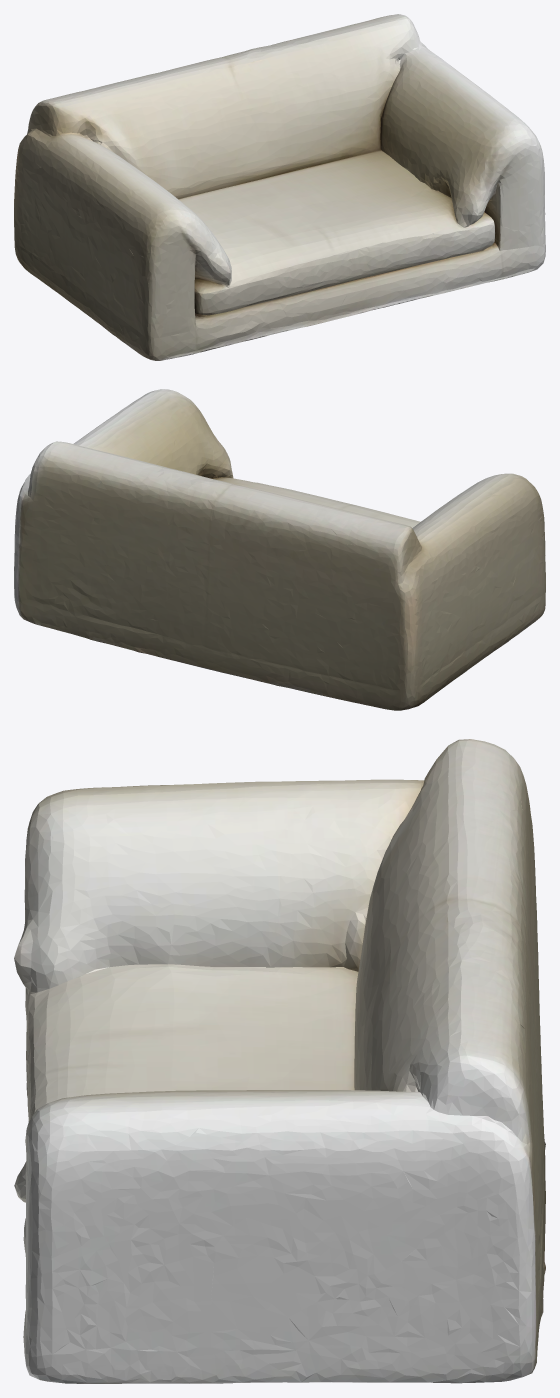
3 views of the same model, one above another, from view 1: azimuth 30°, elevation 25°; view 2: azimuth 150°, elevation 25°; view 3: azimuth 270°, elevation 25° (orthographic). The views are drawn at different scales.
Parts seen in each view (by area): view 1: geometry_0; view 2: geometry_0; view 3: geometry_0.
Part boxes in pixels (x1=…): geometry_0: x1=14, y1=14, x2=545, y2=360; geometry_0: x1=14, y1=389, x2=545, y2=710; geometry_0: x1=14, y1=739, x2=545, y2=1383.
Size of the model in its own units: 1 by 0.4125 by 0.6267.
Materials: 1 (1 with a texture image).
